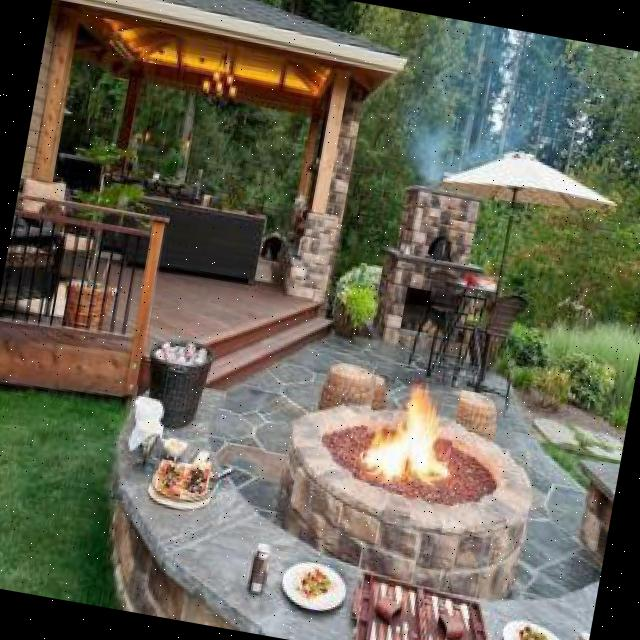fire: (358, 374, 461, 493)
